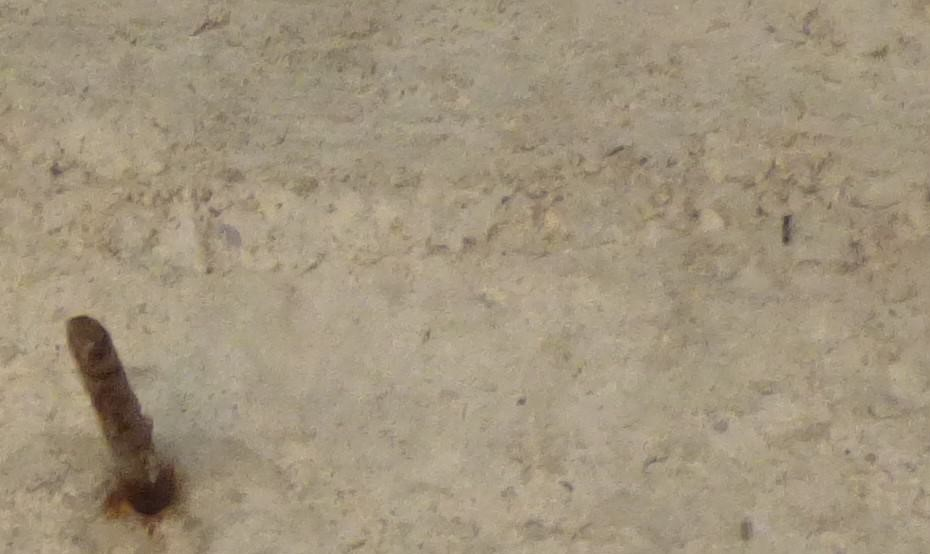Exposed reinforcement: (65, 315, 169, 516)
